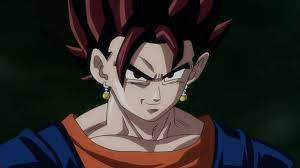Vegito: (90, 11, 211, 120)
